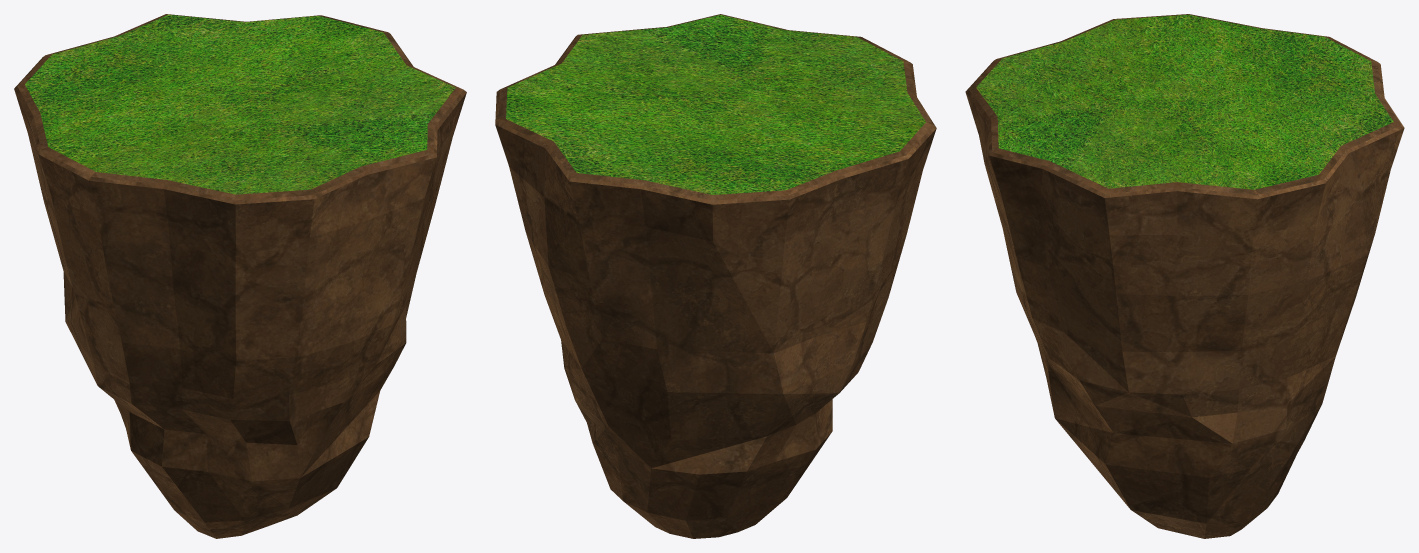
File: platform4.fbx
The picture shows the model from 3 angles, left to right: view 1: azimuth 30°, elevation 25°; view 2: azimuth 150°, elevation 25°; view 3: azimuth 270°, elevation 25°; orthographic projection. The views are drawn at different scales.
Parts seen in each view (by area): view 1: ground4, erba4; view 2: ground4, erba4; view 3: ground4, erba4.
Part boxes in pixels (box(x1,y1,x2,y2)): ground4: box(14, 14, 466, 538); erba4: box(25, 14, 455, 194); ground4: box(495, 14, 936, 538); erba4: box(506, 15, 925, 194); ground4: box(965, 14, 1404, 538); erba4: box(976, 14, 1393, 189).
Bounding box in the file's own units: 1709 × 1770 × 1725.
Materials: 2 (2 with a texture image).
